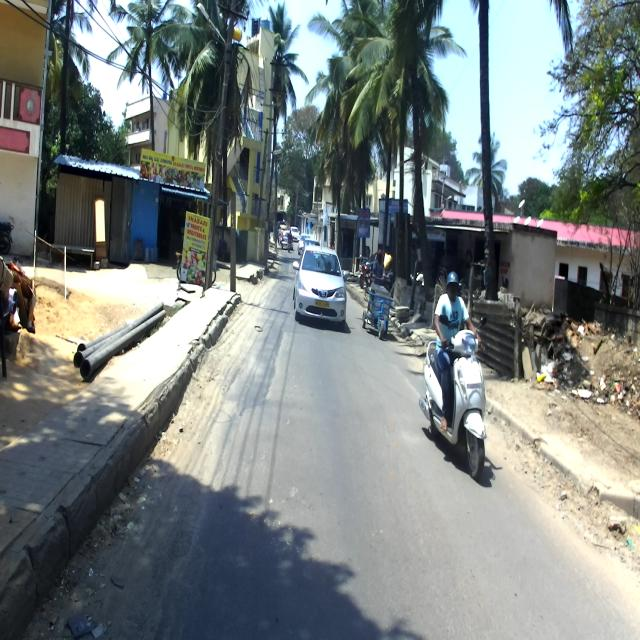car ahead at: (292, 238, 352, 324)
motorcycle ahead at: (420, 321, 487, 477)
